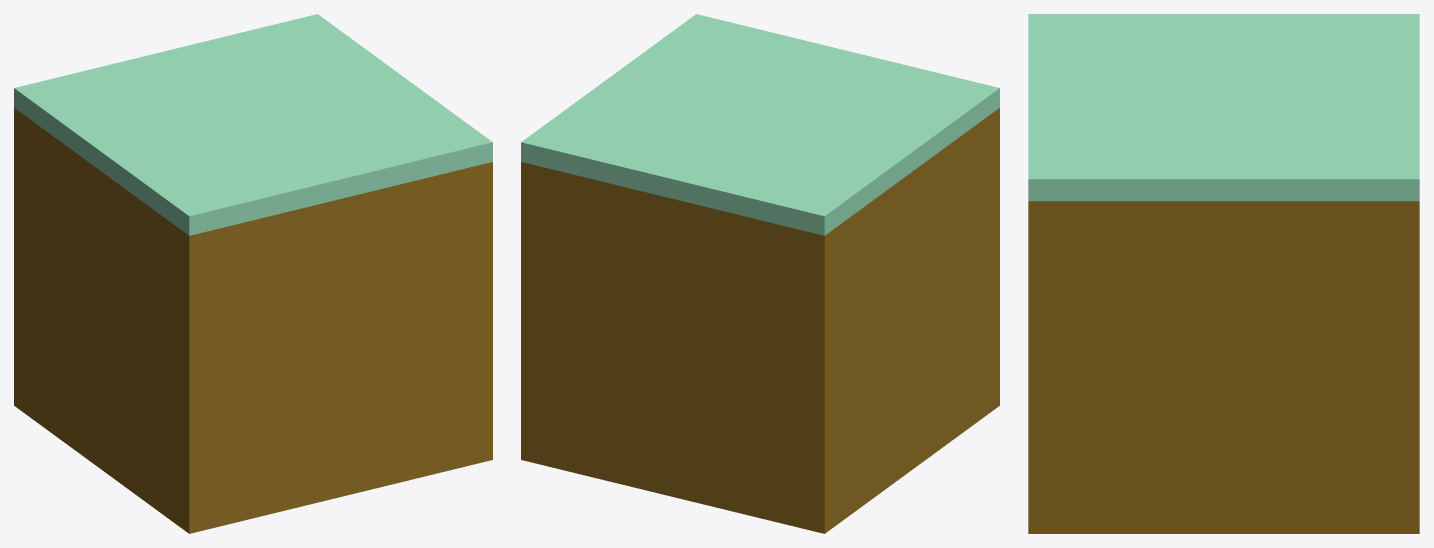
Rendered from ground_grass_base.fbx.
The picture shows the model from 3 angles, left to right: view 1: azimuth 30°, elevation 25°; view 2: azimuth 150°, elevation 25°; view 3: azimuth 270°, elevation 25°; orthographic projection. The views are drawn at different scales.
Parts seen in each view (by area): view 1: ground_grass_base; view 2: ground_grass_base; view 3: ground_grass_base.
Part boxes in pixels (box(x1,y1,x2,y2)): ground_grass_base: box(14, 14, 492, 533); ground_grass_base: box(521, 14, 999, 533); ground_grass_base: box(1028, 14, 1419, 533).
Bounding box in the file's own units: 200 × 200 × 200.
